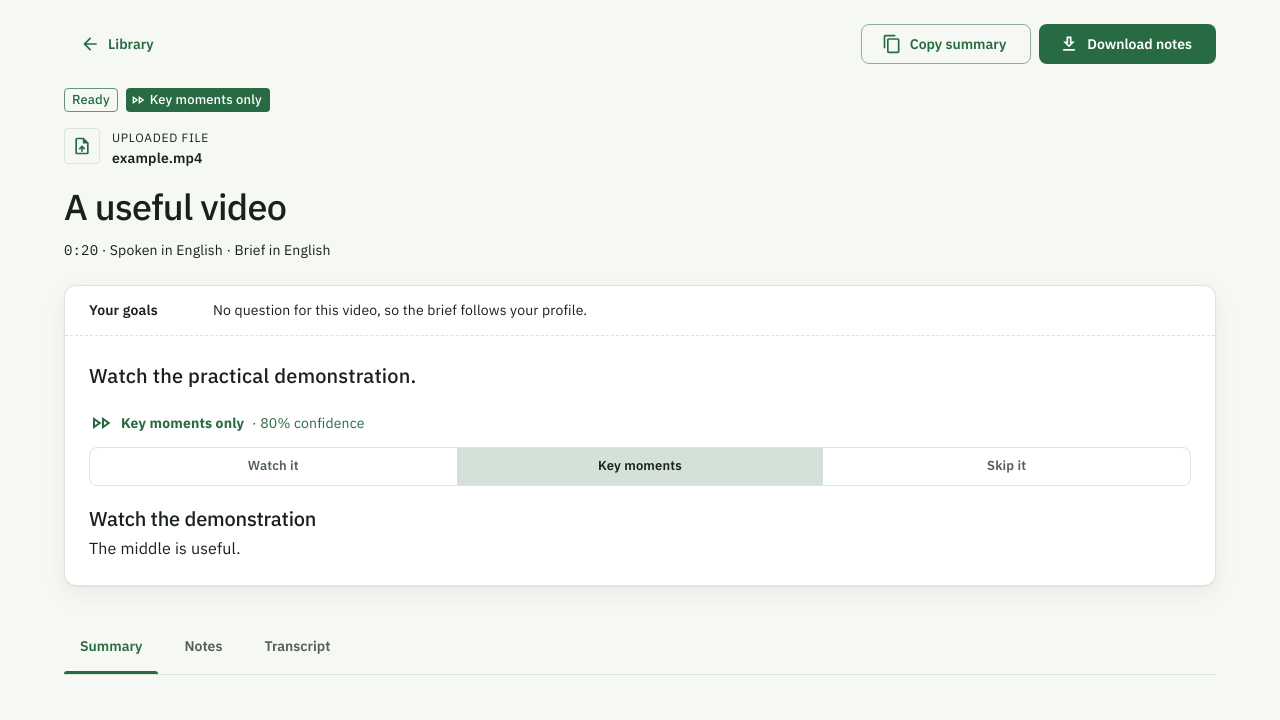
Test case: Summary result › shows a recommended moment within its containing transcript segment
The image size is (1280, 720).
Click the tab "Transcript" at (297, 646), box [248,618,346,674]
(page scrolled)
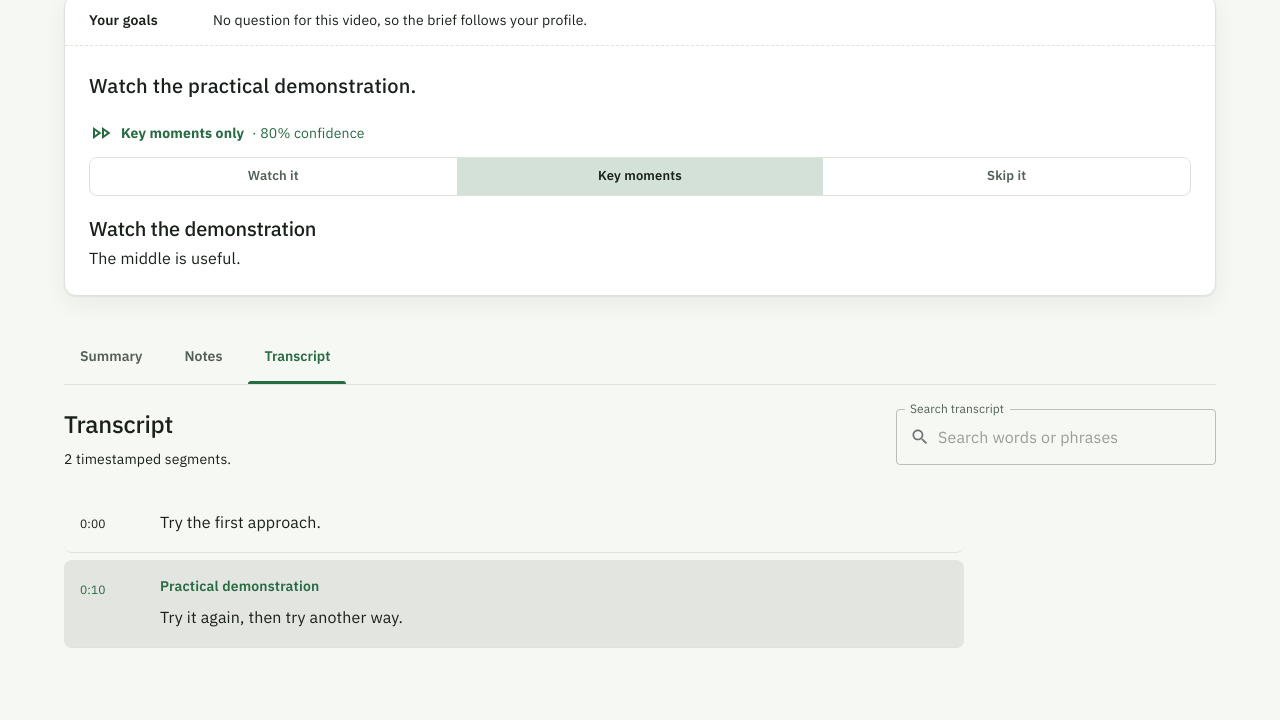
Expected: the text "Practical demonstration" is shown, [160,577,319,595]
Expected: the text "Try it again, then try another way." is shown, [160,607,403,627]
